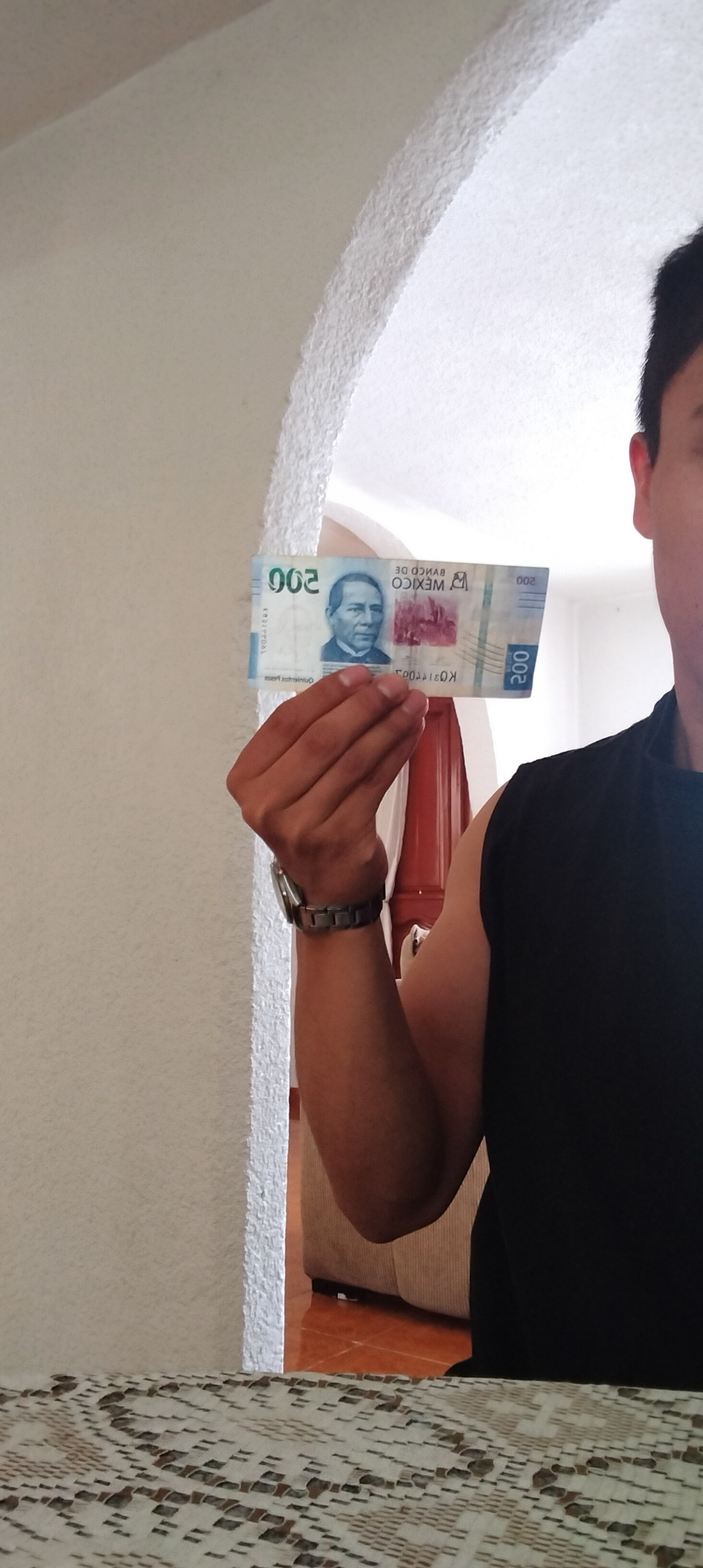billetes: (234, 532, 559, 707)
